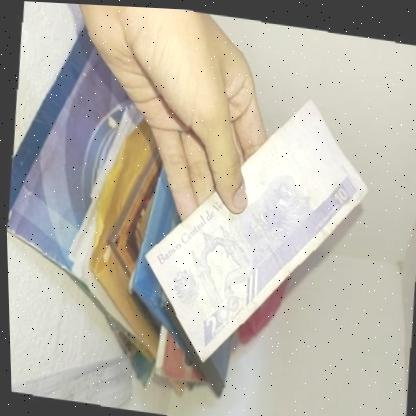ten-back-vef: (131, 75, 380, 381)
